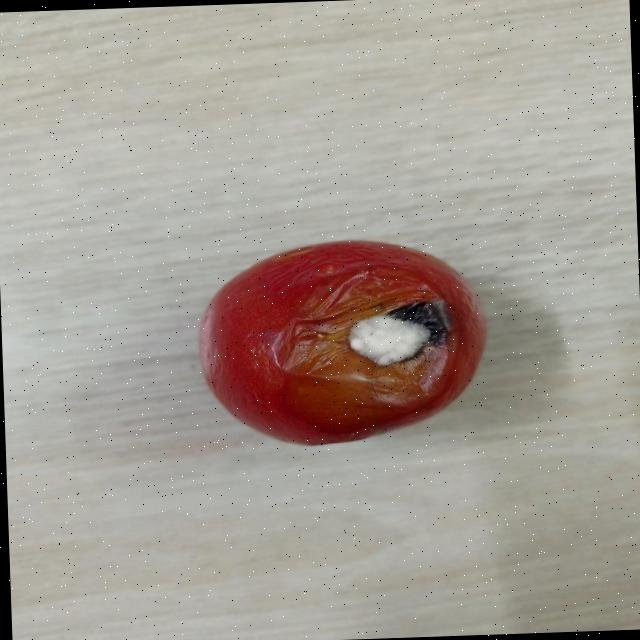Rotten: (194, 232, 487, 450)
